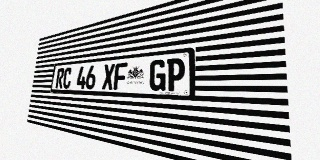4: (76, 66, 87, 89)
6: (85, 65, 97, 89)
C: (62, 67, 72, 89)
F: (113, 62, 128, 90)
G: (149, 59, 166, 91)
P: (166, 57, 185, 91)
R: (55, 68, 65, 88)
X: (102, 64, 115, 90)
